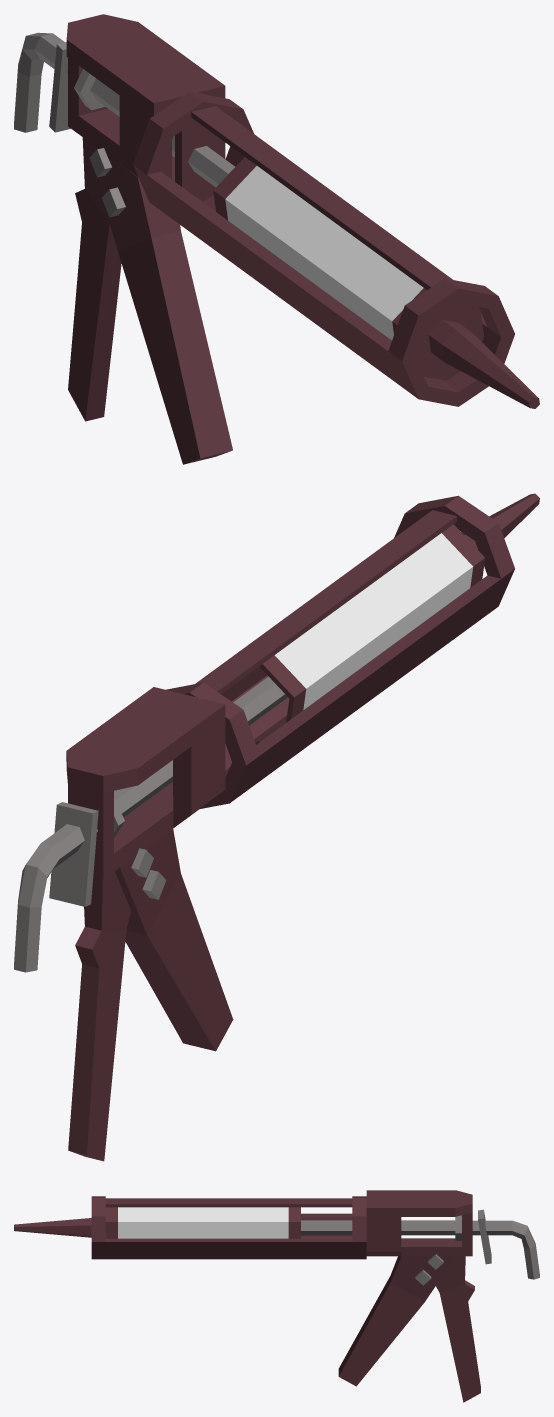
The model's file is caulking-gun-glue.fbx.
3 renders of one model, top to bottom at view 1: azimuth 30°, elevation 25°; view 2: azimuth 150°, elevation 25°; view 3: azimuth 270°, elevation 25°, orthographic. The views are drawn at different scales.
Visible parts, largest first — view 1: caulking-gun-glue; view 2: caulking-gun-glue; view 3: caulking-gun-glue.
Part boxes in pixels (<box>): caulking-gun-glue: <box>14,14,539,464</box>; caulking-gun-glue: <box>14,493,539,1161</box>; caulking-gun-glue: <box>14,1190,539,1402</box>.
Bounding box in the file's own units: 0.0899 × 0.3013 × 0.708.
